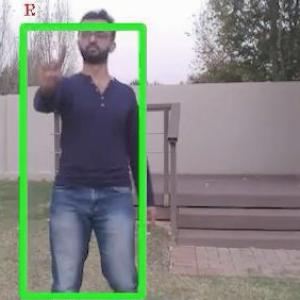takeoff-hand: (30, 34, 71, 94)
